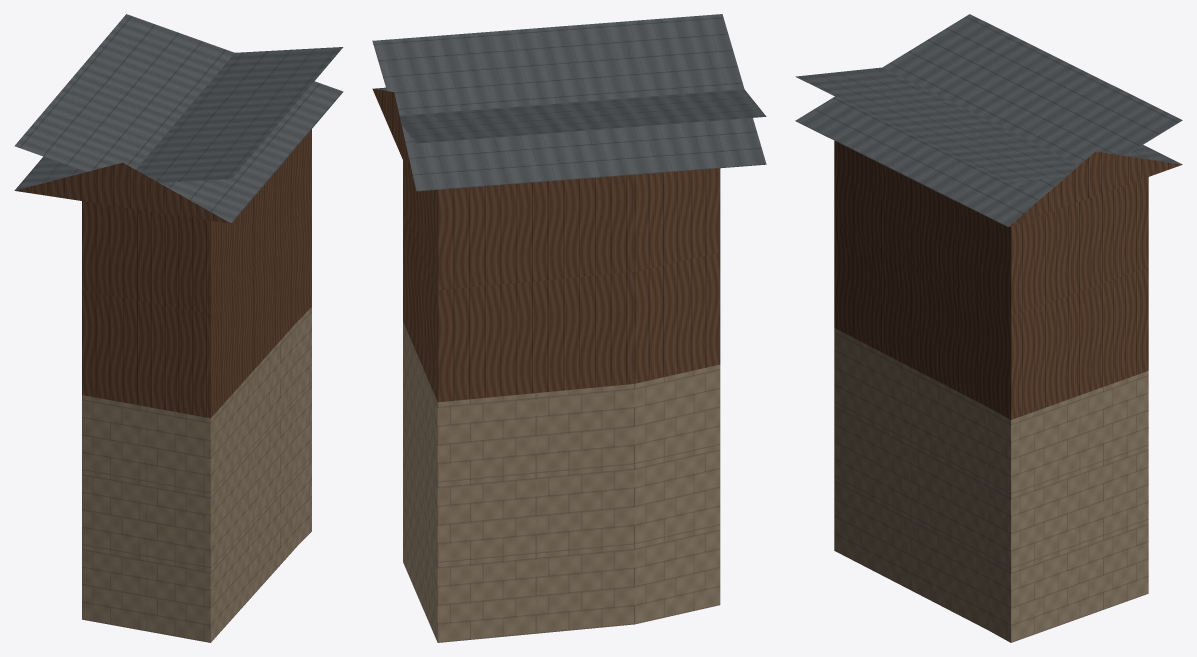
File: bld_c-9_41_517.gltf
3 views of the same model, side by side, from view 1: azimuth 30°, elevation 25°; view 2: azimuth 150°, elevation 25°; view 3: azimuth 270°, elevation 25° (orthographic). The views are drawn at different scales.
Parts seen in each view (by area): view 1: bld_c-9_41_517; view 2: bld_c-9_41_517; view 3: bld_c-9_41_517.
Part boxes in pixels (bbox=[...]): bld_c-9_41_517: bbox=[14, 14, 343, 642]; bld_c-9_41_517: bbox=[372, 14, 766, 642]; bld_c-9_41_517: bbox=[795, 14, 1182, 642].
Size of the model in its own units: 8.17 by 10.7 by 7.93.
Materials: 4 (4 with a texture image).
